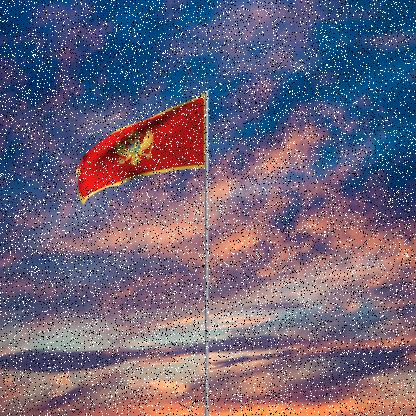me: (75, 94, 206, 208)
